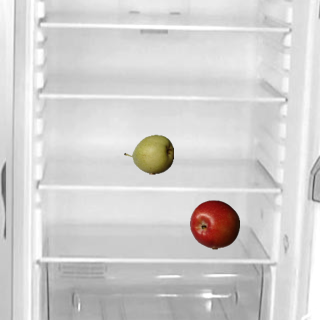Apple Braeburn: (189, 199, 239, 249)
Pear: (123, 129, 173, 179)
